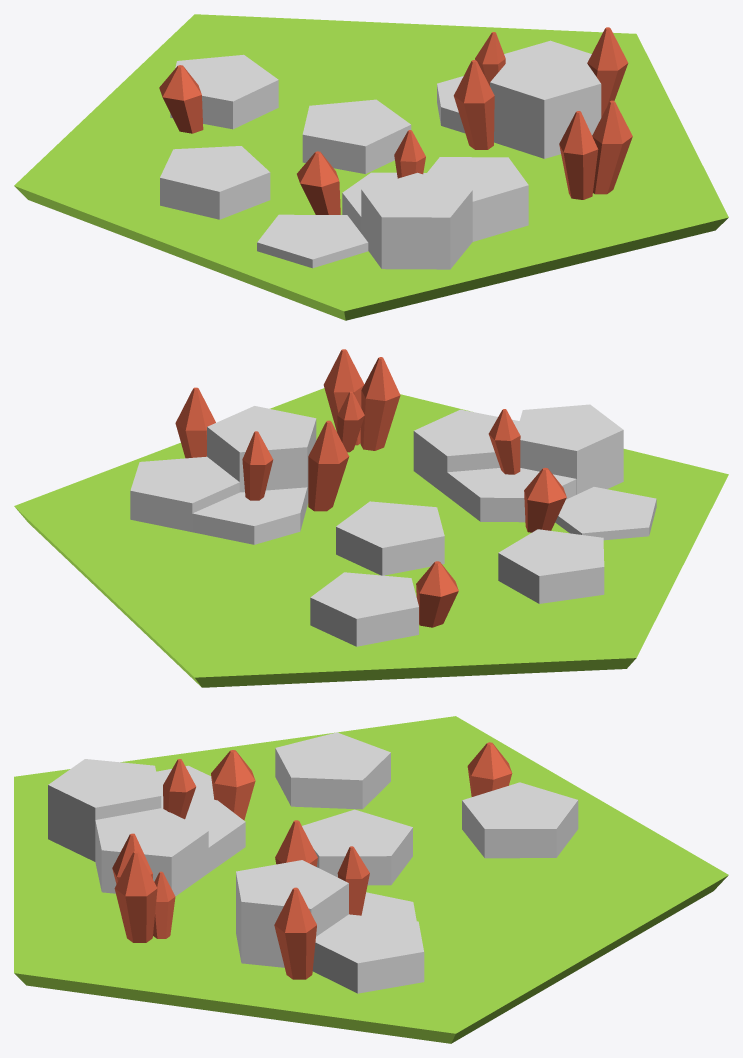
File: RockTilesCrystal_orange.fbx
3 renders of one model, top to bottom at view 1: azimuth 30°, elevation 25°; view 2: azimuth 150°, elevation 25°; view 3: azimuth 270°, elevation 25°, orthographic. The views are drawn at different scales.
Parts seen in each view (by area): view 1: origine.004; view 2: origine.004; view 3: origine.004.
Part boxes in pixels (left/top/right/bottom): origine.004: left=14, top=14, right=728, bottom=320; origine.004: left=14, top=349, right=728, bottom=687; origine.004: left=14, top=716, right=728, bottom=1043.
Size of the model in its own units: 111 by 17.46 by 105.
